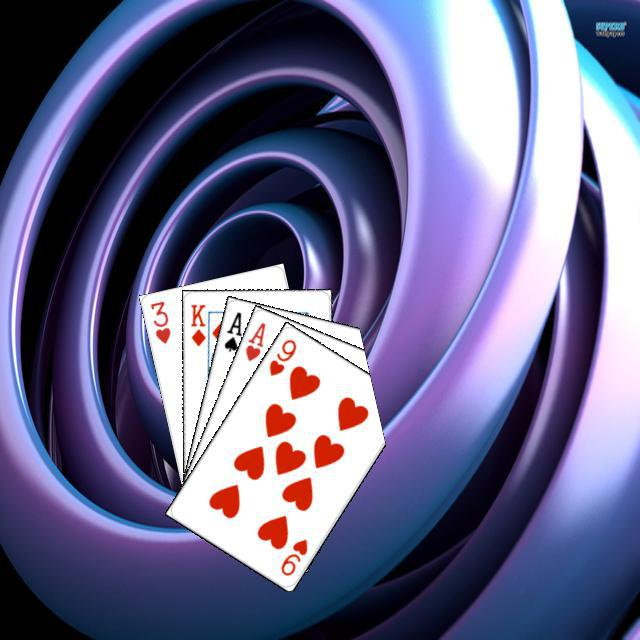3h: (145, 296, 172, 345)
9h: (264, 334, 298, 378), (276, 534, 309, 578)
Ah: (240, 317, 267, 363)
As: (219, 307, 244, 353)
Kd: (186, 299, 207, 348)
